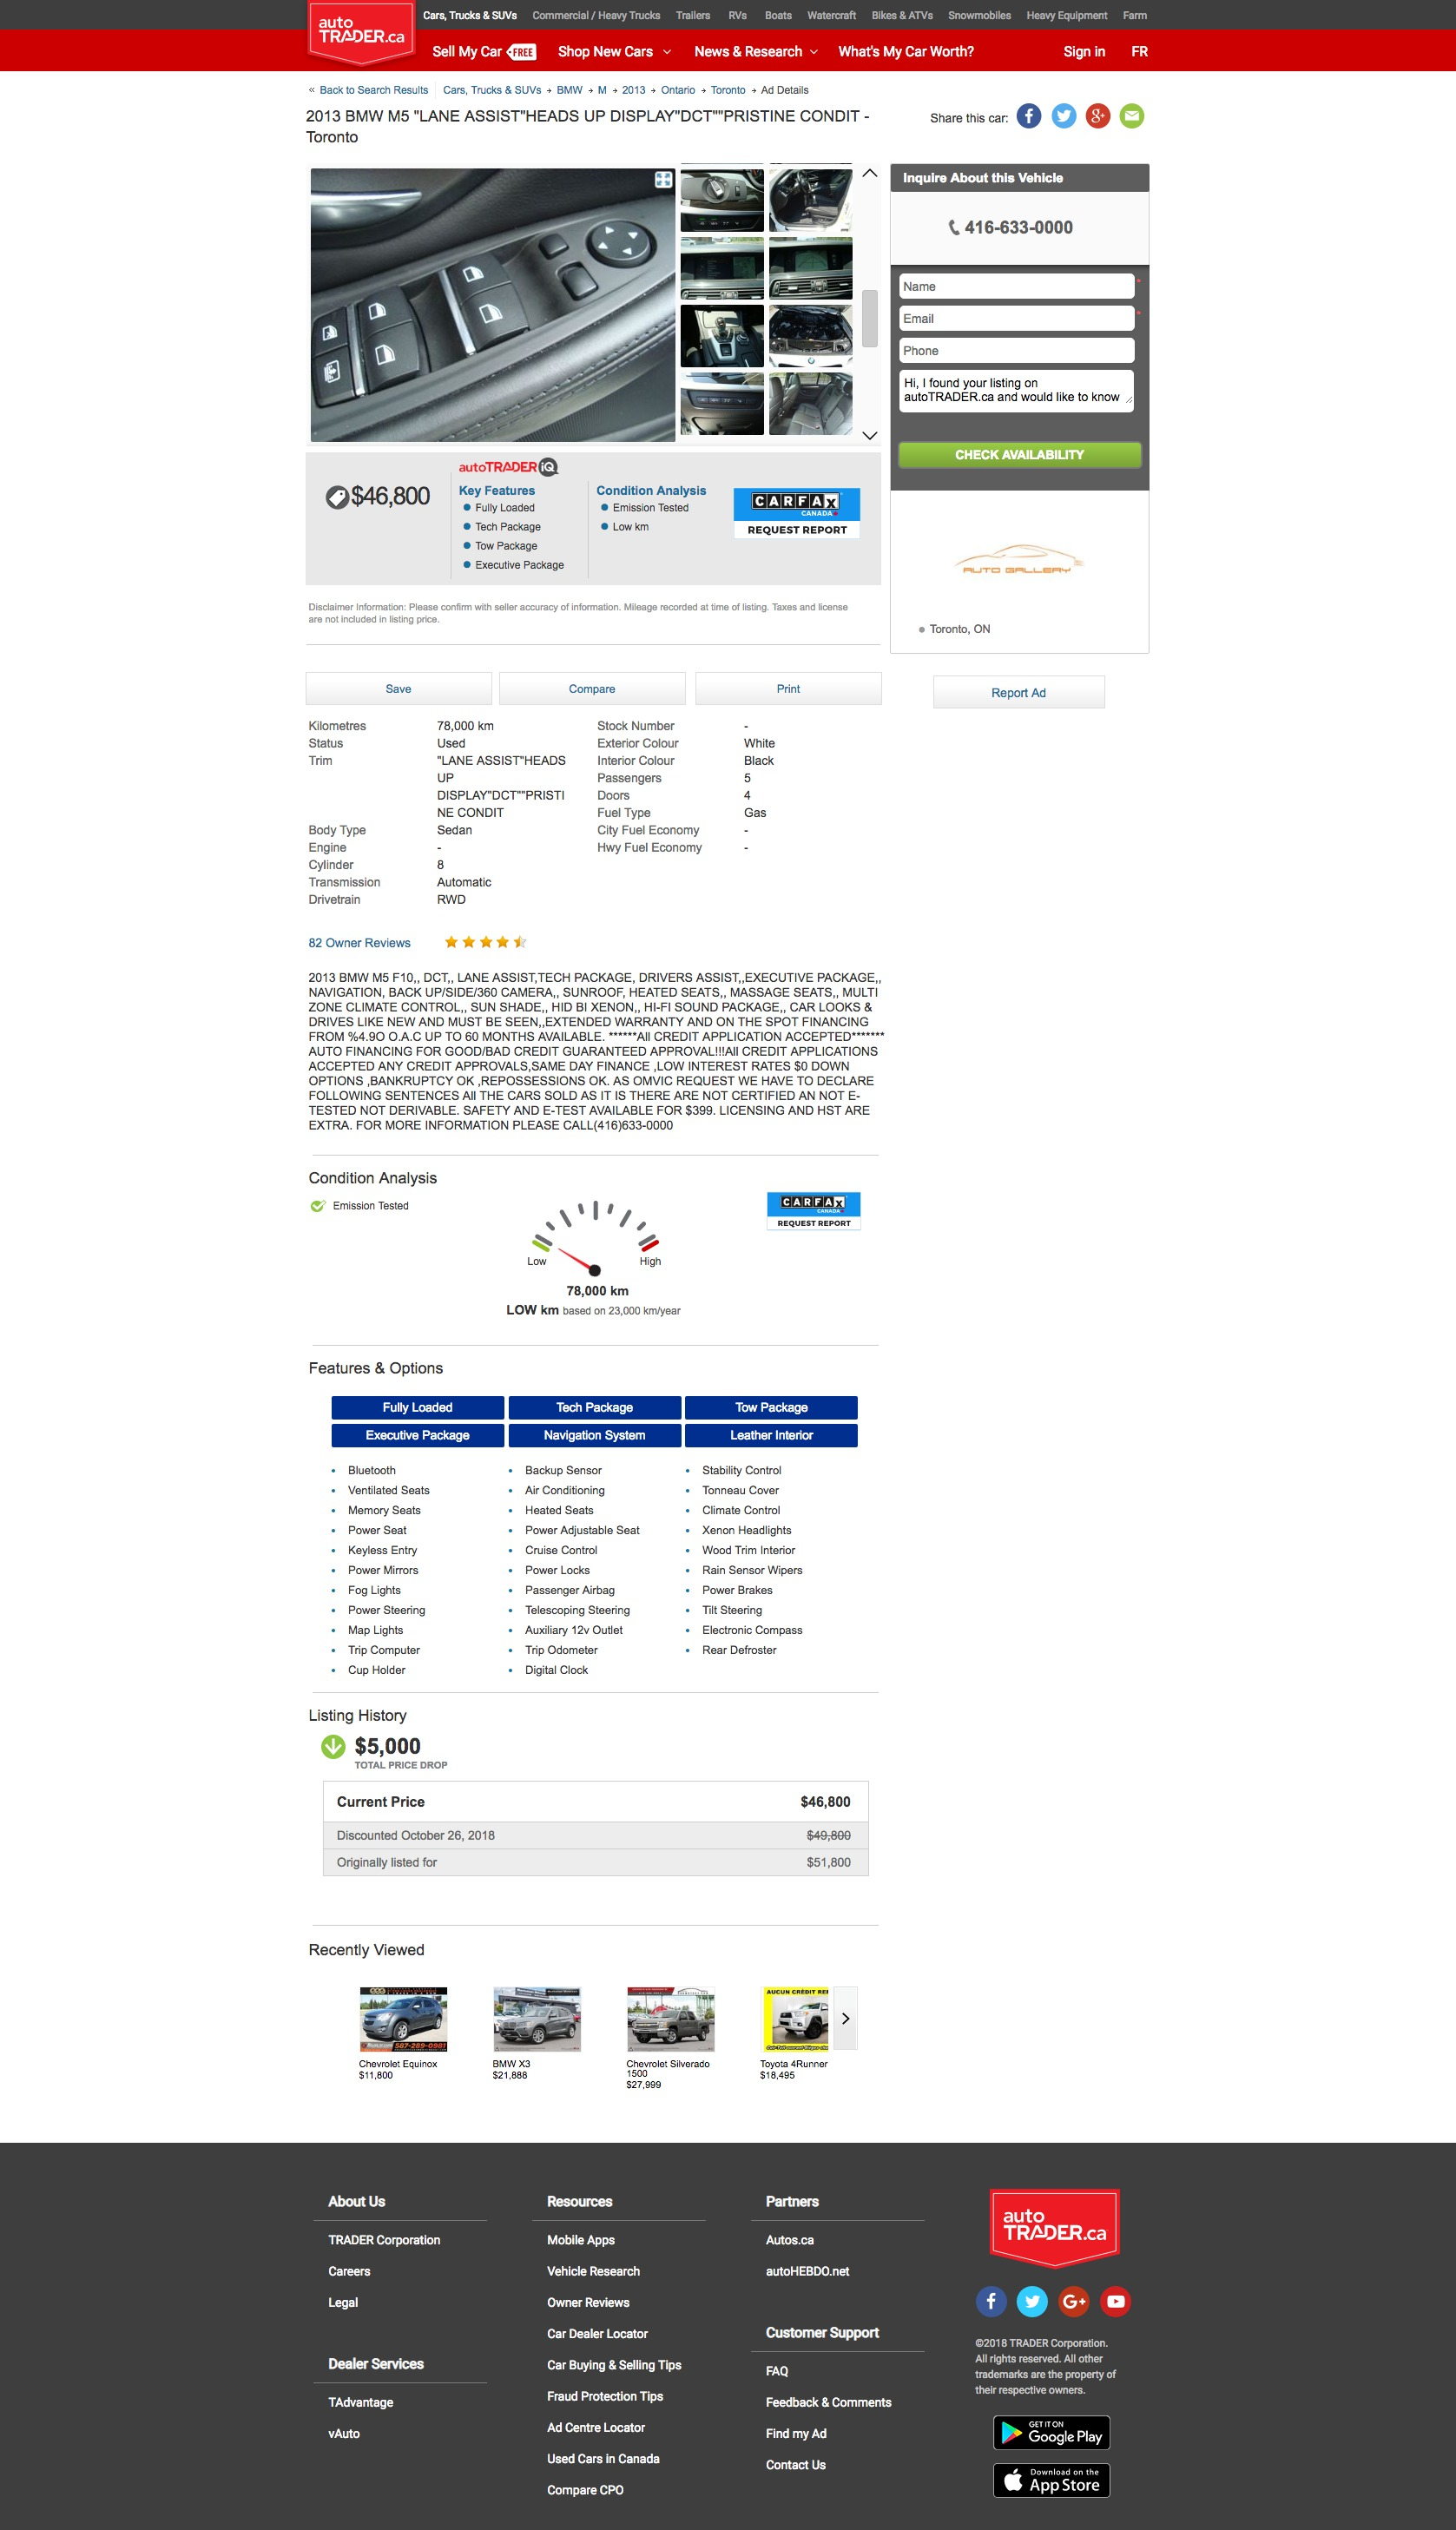car: (862, 431, 879, 441)
